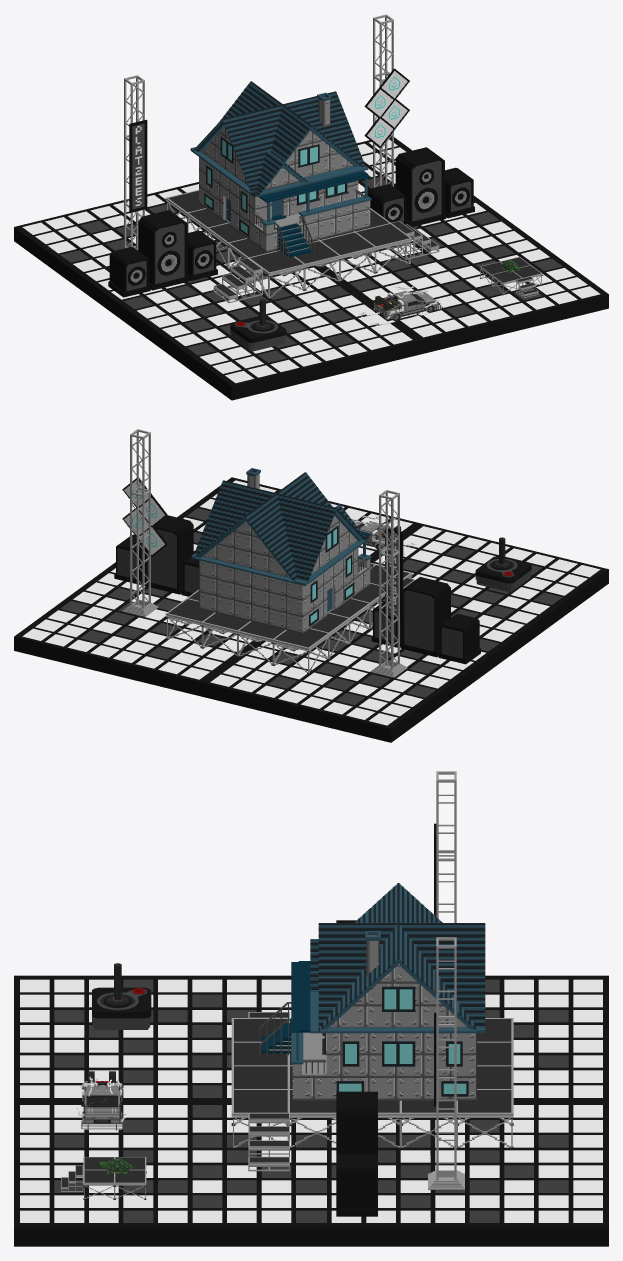
The picture shows the model from 3 angles, top to bottom: view 1: azimuth 30°, elevation 25°; view 2: azimuth 150°, elevation 25°; view 3: azimuth 270°, elevation 25°; orthographic projection. The views are drawn at different scales.
Visible parts, largest first — view 1: TERRAIN_DISCO_FLOOR, HOUSE_METAL, OBJRANDOM_JOYSTICK, VEHICLES_DELOREAN; view 2: TERRAIN_DISCO_FLOOR, HOUSE_METAL, OBJRANDOM_JOYSTICK, VEHICLES_DELOREAN; view 3: TERRAIN_DISCO_FLOOR, HOUSE_METAL, OBJRANDOM_JOYSTICK, VEHICLES_DELOREAN.
Boxes of the visible parts, <box> form: TERRAIN_DISCO_FLOOR: <box>14,14,608,400</box>; HOUSE_METAL: <box>190,81,371,258</box>; OBJRANDOM_JOYSTICK: <box>230,299,286,351</box>; VEHICLES_DELOREAN: <box>359,286,441,325</box>; TERRAIN_DISCO_FLOOR: <box>14,429,608,742</box>; HOUSE_METAL: <box>191,468,372,633</box>; OBJRANDOM_JOYSTICK: <box>475,537,531,592</box>; VEHICLES_DELOREAN: <box>352,515,416,554</box>; TERRAIN_DISCO_FLOOR: <box>14,771,608,1246</box>; HOUSE_METAL: <box>259,883,485,1100</box>; OBJRANDOM_JOYSTICK: <box>92,963,151,1029</box>; VEHICLES_DELOREAN: <box>76,1071,126,1130</box>.
Size of the model in its own units: 4000 by 2016 by 4000.
Materials: 31 (22 with a texture image).
